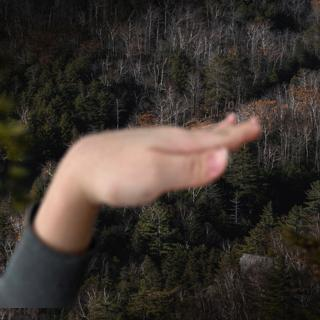Wait: (60, 106, 266, 206)
